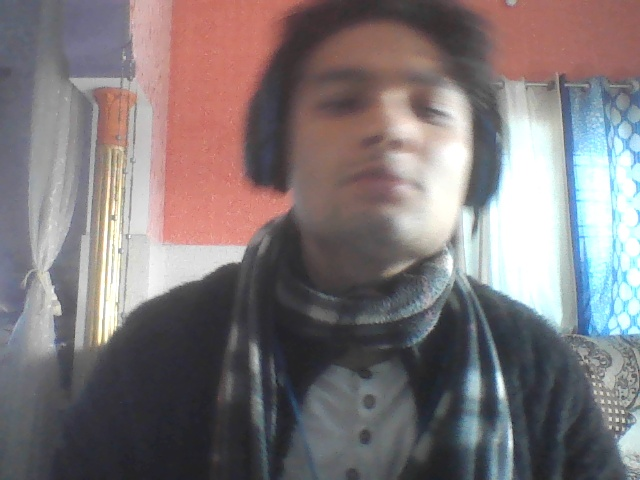real: (270, 0, 486, 306)
